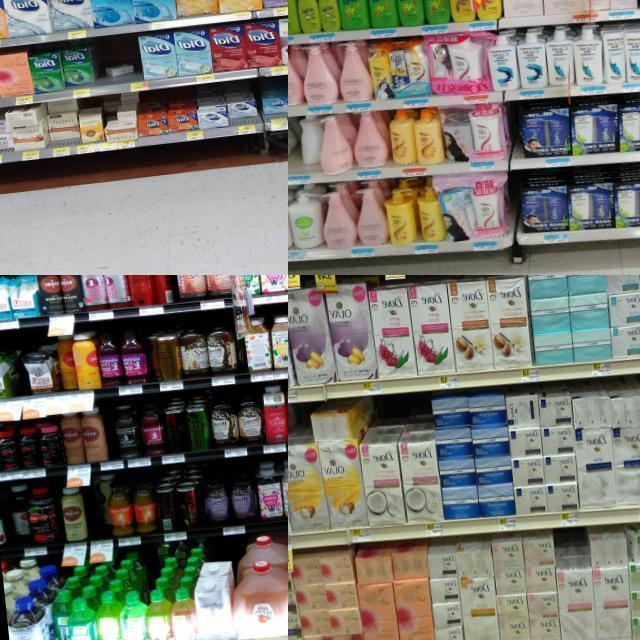Imprecise: (102, 92, 140, 140), (51, 330, 78, 392), (104, 59, 136, 78)
